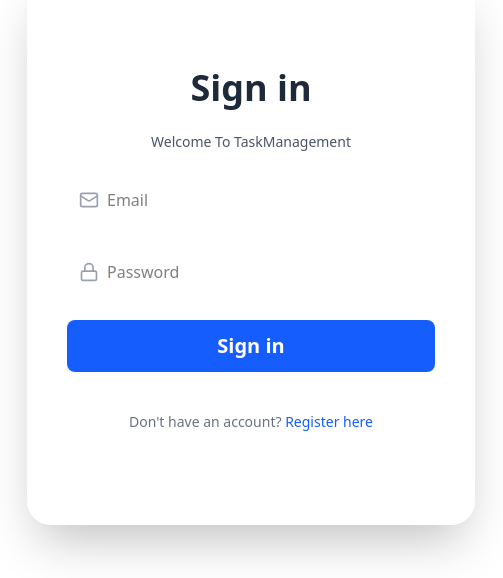
Test: Login Component › shows validation error when password is too short
The width and height of the screenshot is (503, 578).
In the password field with placeholder "Password": [251, 272] box [67,248,435,296], type "123"
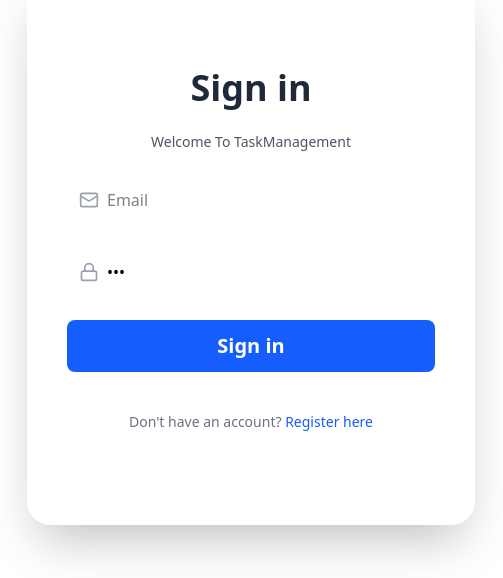
Leave the password field with placeholder "Password", box [67,248,435,296]
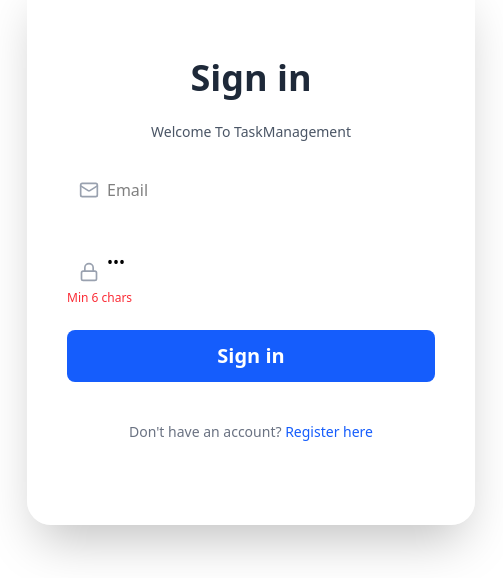
Check: the text "Min 6 chars" is shown, box [67,289,132,306]
